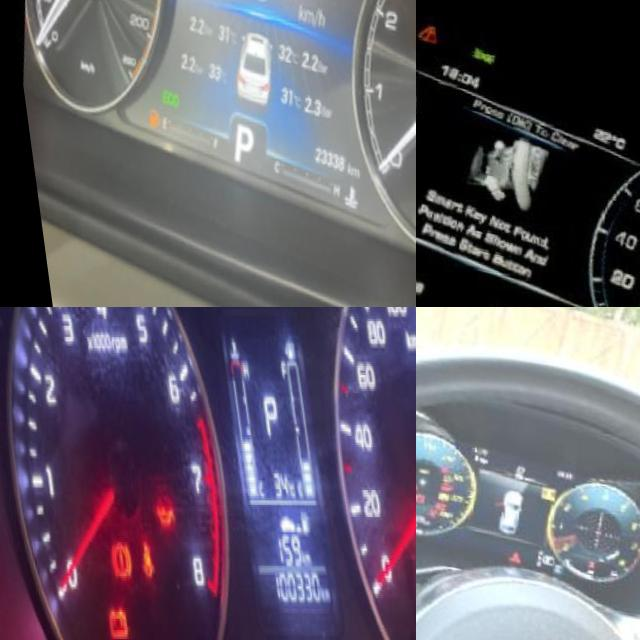Engine cooling system: (576, 560, 589, 572)
